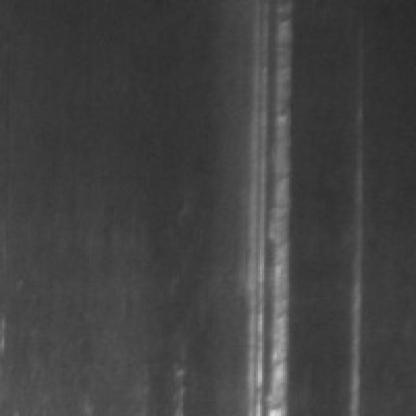scratches: (239, 0, 293, 414), (341, 118, 366, 412)
